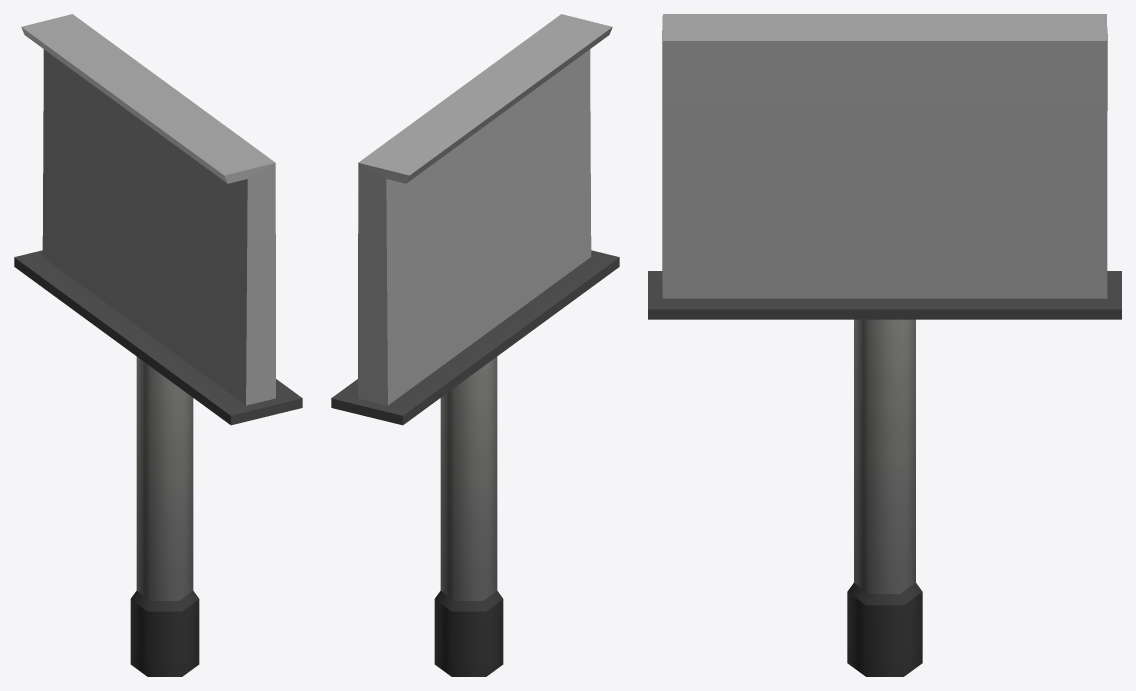
File: Bilboard_2_A.fbx
3 renders of one model, left to right at view 1: azimuth 30°, elevation 25°; view 2: azimuth 150°, elevation 25°; view 3: azimuth 270°, elevation 25°, orthographic. The views are drawn at different scales.
Parts seen in each view (by area): view 1: Bilboard_2_A; view 2: Bilboard_2_A; view 3: Bilboard_2_A.
Part boxes in pixels (x1,y1,x2,y2): Bilboard_2_A: (14, 14, 302, 676); Bilboard_2_A: (331, 14, 619, 676); Bilboard_2_A: (648, 14, 1121, 676).
Size of the model in its own units: 80.53 by 615 by 421.
